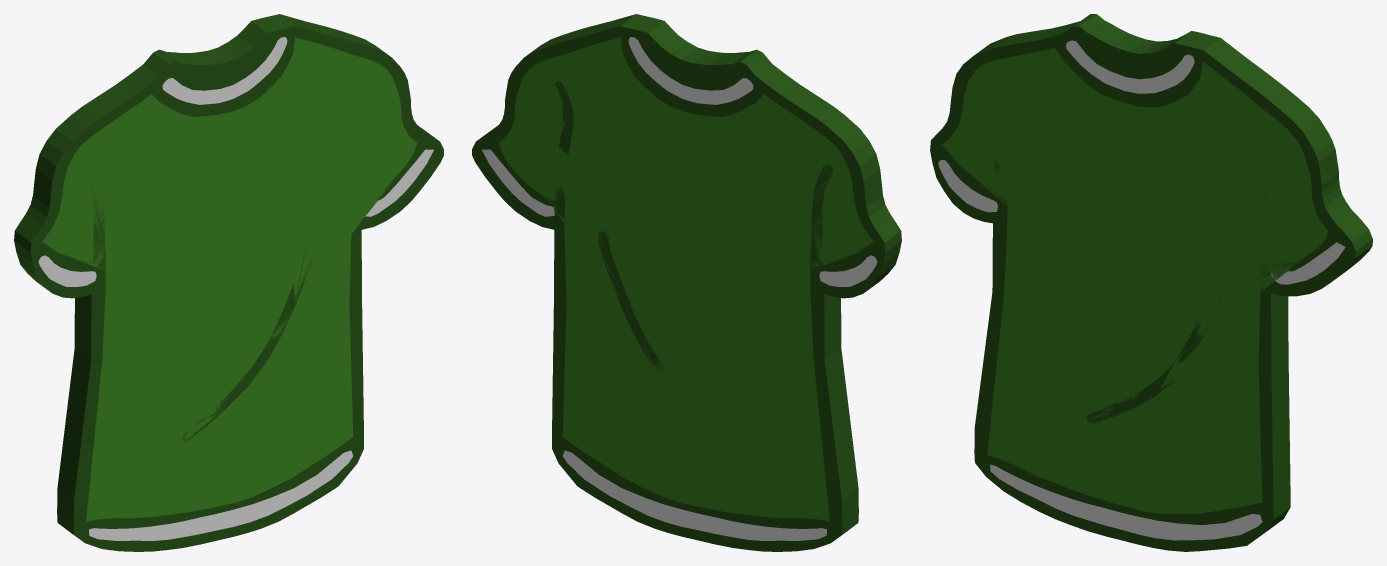
The model's file is T_Shirt.fbx.
The picture shows the model from 3 angles, left to right: view 1: azimuth 30°, elevation 25°; view 2: azimuth 150°, elevation 25°; view 3: azimuth 330°, elevation 25°; orthographic projection. The views are drawn at different scales.
Parts seen in each view (by area): view 1: Plane.002, Plane.001, Plane; view 2: Plane.002, Plane.001, Plane; view 3: Plane.002, Plane.001, Plane.
Boxes of the visible parts, left/top/right/bottom form: Plane.002: left=42, top=37, right=417, bottom=521; Plane.001: left=14, top=14, right=443, bottom=551; Plane: left=38, top=37, right=433, bottom=540; Plane.002: left=498, top=37, right=873, bottom=521; Plane.001: left=472, top=14, right=901, bottom=551; Plane: left=482, top=37, right=877, bottom=540; Plane.002: left=942, top=47, right=1328, bottom=513; Plane.001: left=930, top=14, right=1372, bottom=551; Plane: left=938, top=40, right=1345, bottom=540.
Size of the model in its own units: 420 by 481 by 29.22.
